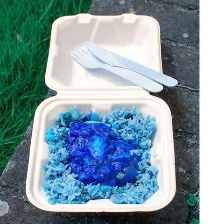foam_box: (19, 7, 180, 214)
